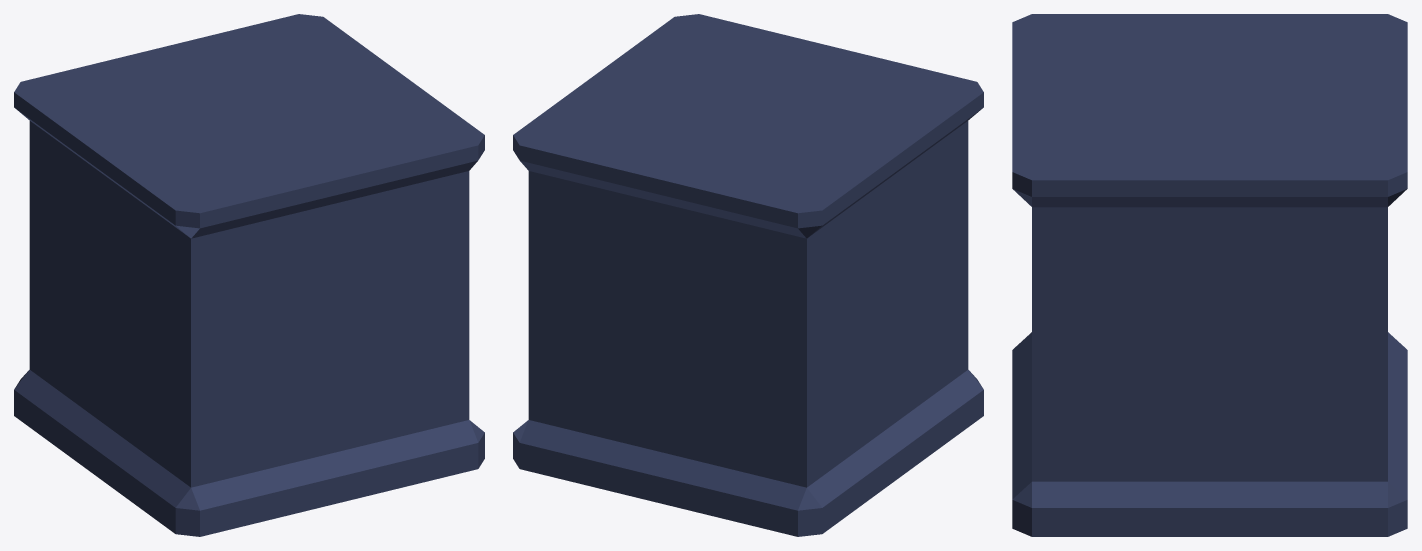
The model's file is base_double_riser_1x1.fbx.
3 renders of one model, left to right at view 1: azimuth 30°, elevation 25°; view 2: azimuth 150°, elevation 25°; view 3: azimuth 270°, elevation 25°, orthographic. The views are drawn at different scales.
Parts seen in each view (by area): view 1: base_double_riser_1x1; view 2: base_double_riser_1x1; view 3: base_double_riser_1x1.
Boxes of the visible parts, box(x1,y1,x2,y2) form: base_double_riser_1x1: box(14, 14, 484, 536); base_double_riser_1x1: box(513, 14, 983, 536); base_double_riser_1x1: box(1012, 14, 1407, 536).
Size of the model in its own units: 199 by 199 by 200.
